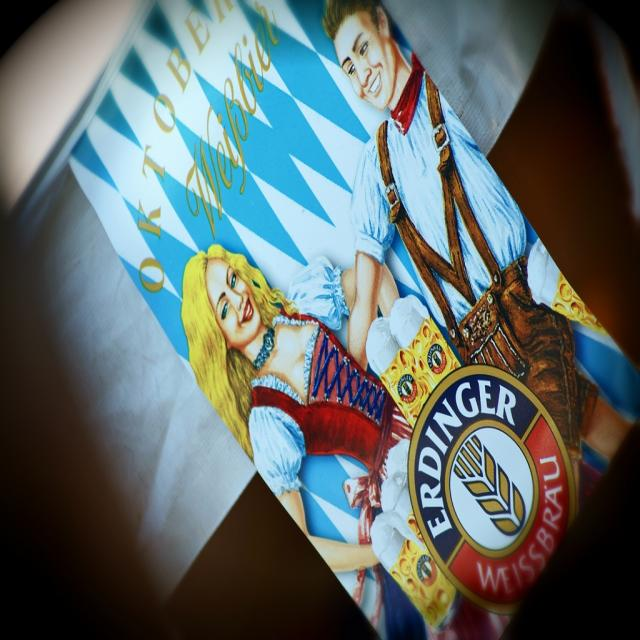erdinger: (405, 362, 579, 619)
